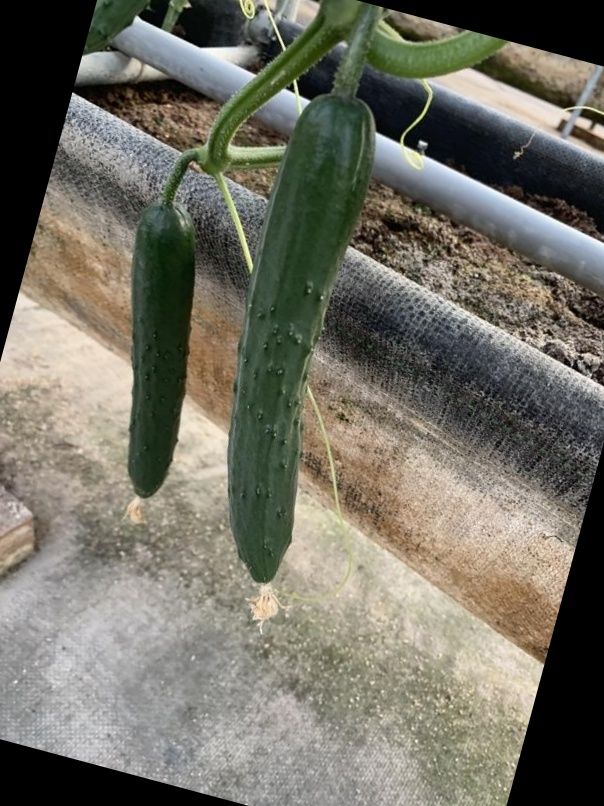mature: (218, 83, 378, 610), (119, 196, 199, 508)
